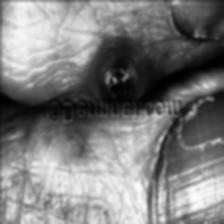Toxin: (92, 46, 140, 100)
